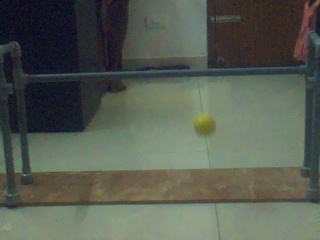ball: (193, 114, 215, 135)
